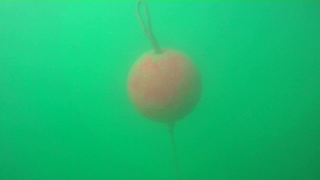buoy: (126, 48, 202, 123)
